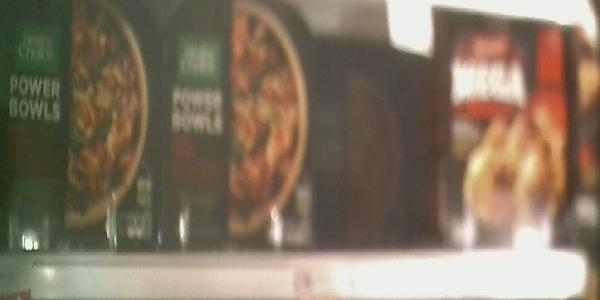pizza1: (157, 1, 318, 248), (1, 1, 155, 255), (439, 15, 576, 246)
